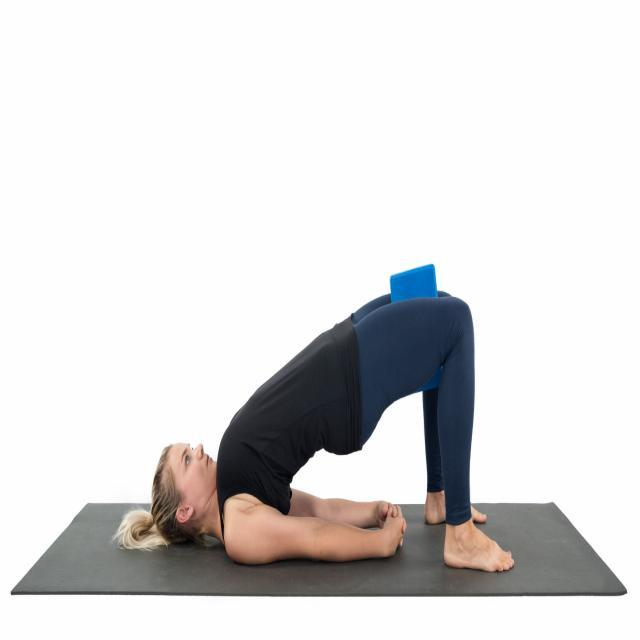yoga-pose bridge: (152, 280, 520, 578)
